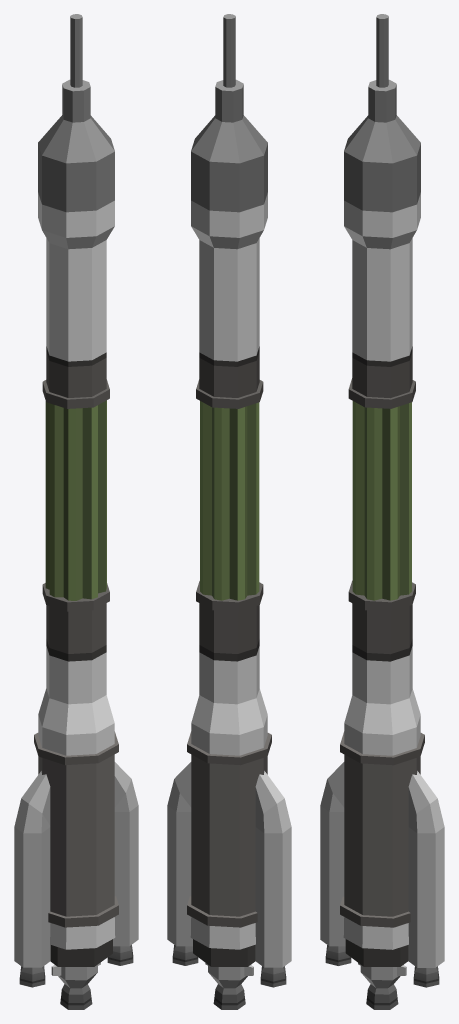
Rendered from SM_Veh_Rocket_17.fbx.
The picture shows the model from 3 angles, left to right: view 1: azimuth 30°, elevation 25°; view 2: azimuth 150°, elevation 25°; view 3: azimuth 330°, elevation 25°; orthographic projection.
Parts seen in each view (by area): view 1: SM_Veh_Rocket_17; view 2: SM_Veh_Rocket_17; view 3: SM_Veh_Rocket_17.
Boxes of the visible parts, box(x1,y1,x2,y2) form: SM_Veh_Rocket_17: box(14, 14, 138, 1009); SM_Veh_Rocket_17: box(167, 14, 291, 1009); SM_Veh_Rocket_17: box(320, 14, 444, 1009).
Size of the model in its own units: 2.57 by 21.08 by 1.7.
